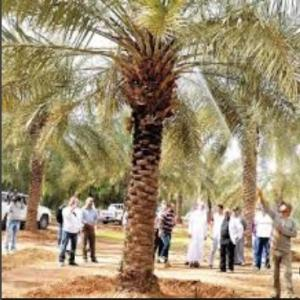palm tree: (2, 0, 299, 293)
